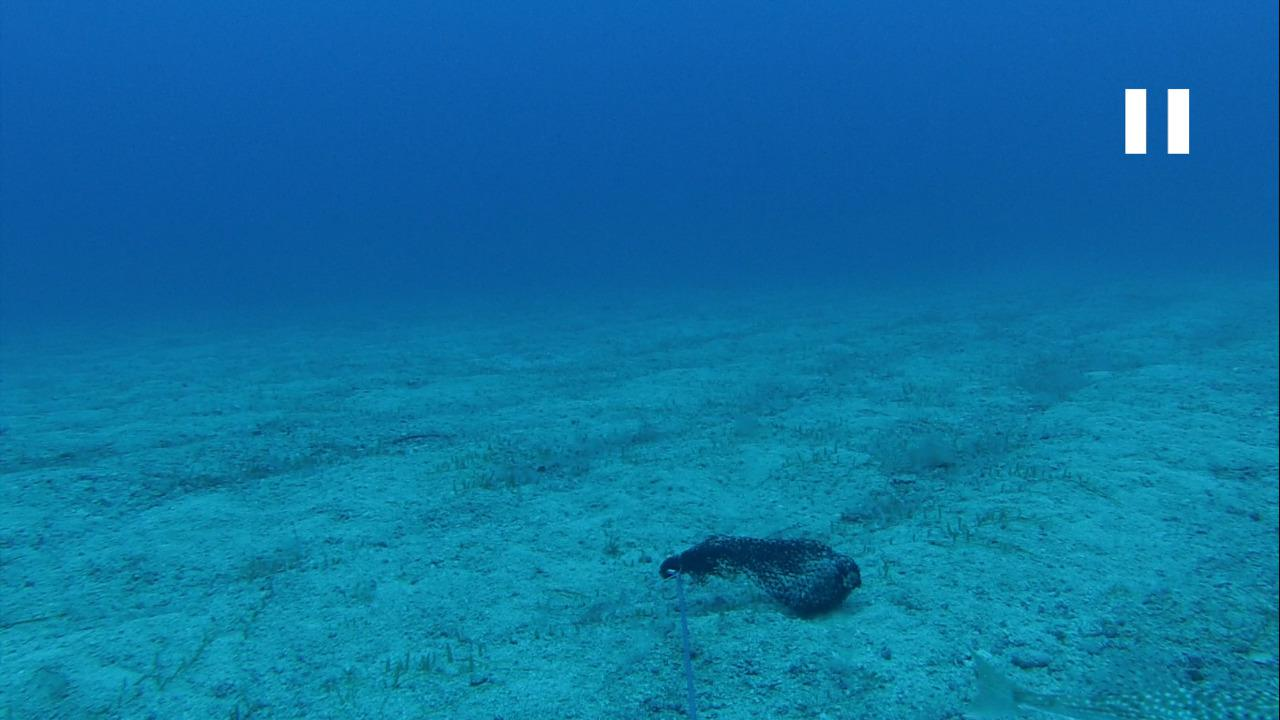dactylopterus: (967, 650, 1279, 718)
